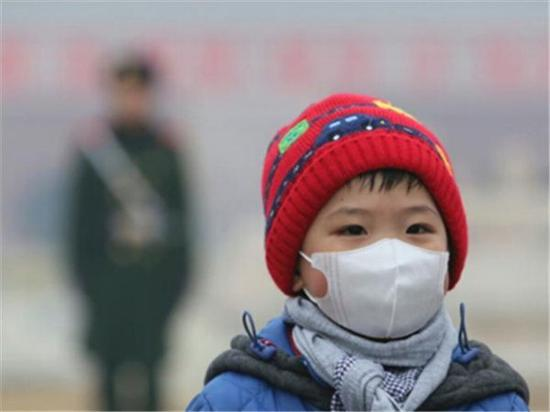OK: (316, 199, 456, 339)
